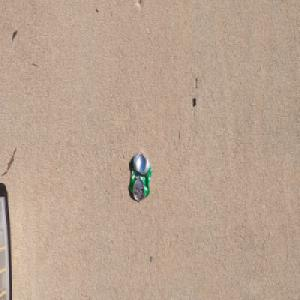SodaCan: (128, 151, 152, 202)
